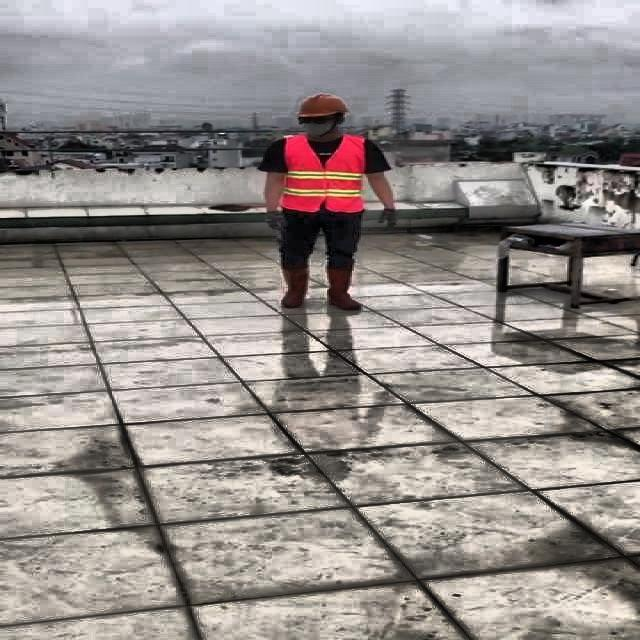safety_helmet: (294, 93, 349, 117)
safety_jacket: (282, 135, 362, 210)
